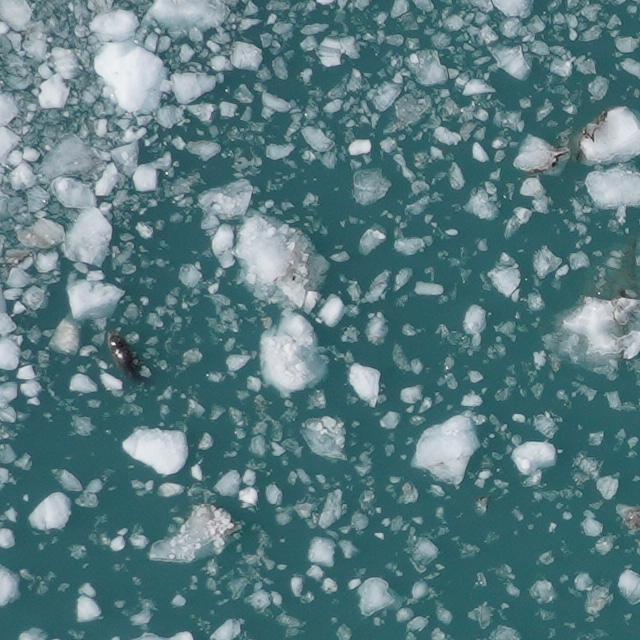seal: (96, 326, 155, 389)
